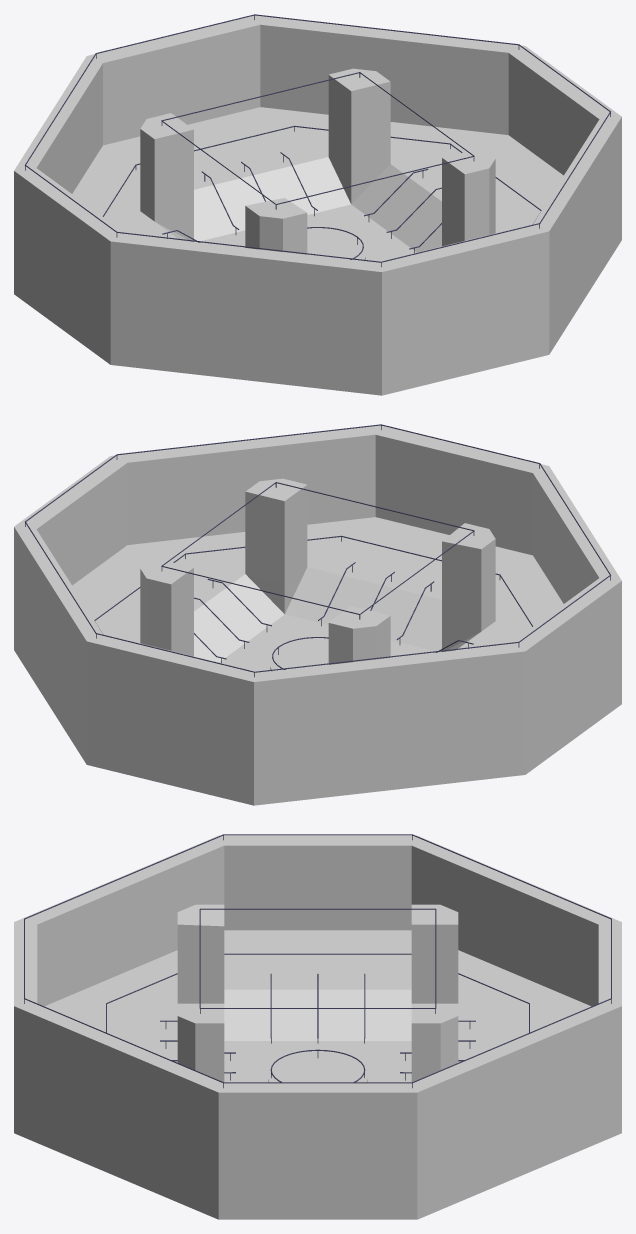
The model's file is demoEnvironment.fbx.
3 renders of one model, top to bottom at view 1: azimuth 30°, elevation 25°; view 2: azimuth 150°, elevation 25°; view 3: azimuth 270°, elevation 25°, orthographic. The views are drawn at different scales.
Visible parts, largest first — view 1: Environment, Railings; view 2: Environment, Railings; view 3: Environment, Railings.
Part boxes in pixels (x1,y1,x2,y2): Environment: [14, 15, 621, 395]; Railings: [25, 14, 610, 267]; Environment: [14, 425, 621, 805]; Railings: [25, 424, 610, 677]; Environment: [14, 835, 621, 1219]; Railings: [24, 834, 611, 1088].
Size of the model in its own units: 52 by 12.55 by 52.
